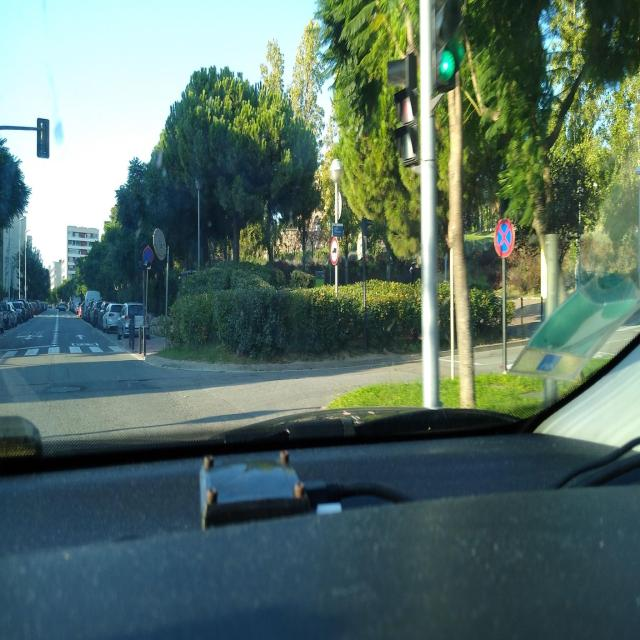forb_stopping: (143, 248, 154, 265)
forb_waiting: (494, 219, 514, 259)
